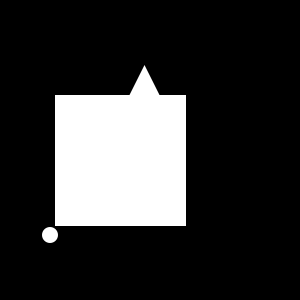circle: (55, 95, 186, 226)
rectangle: (42, 227, 58, 243)
triangle: (103, 65, 186, 148)
